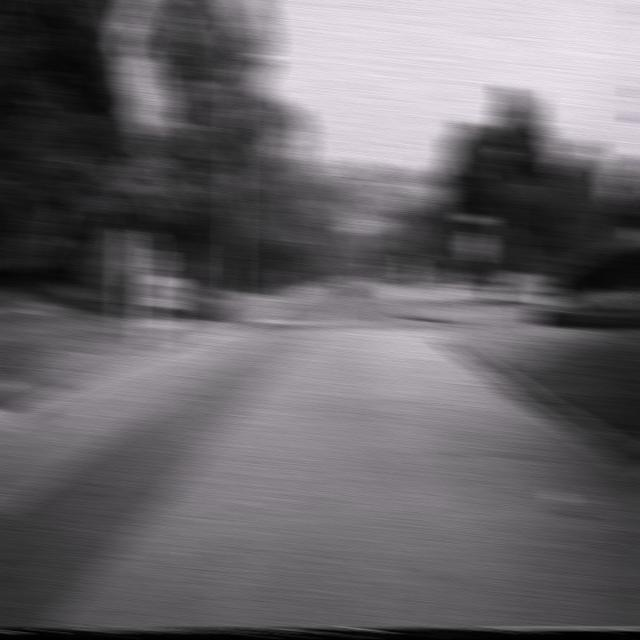stop: (461, 231, 489, 264)
